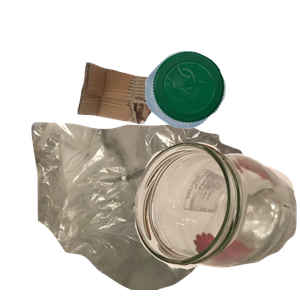cardboard: (75, 59, 237, 176)
glass: (132, 139, 300, 300)
plastic: (142, 48, 300, 169)
trash: (29, 120, 265, 300)
